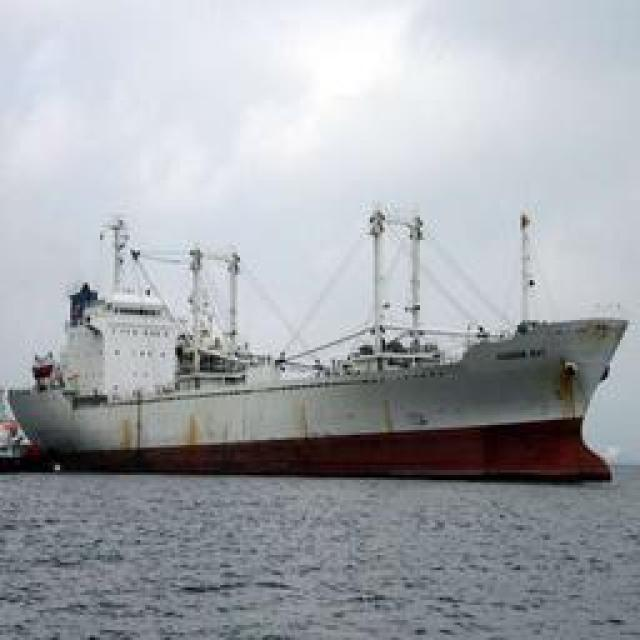CIV_Ship: (15, 200, 630, 465)
